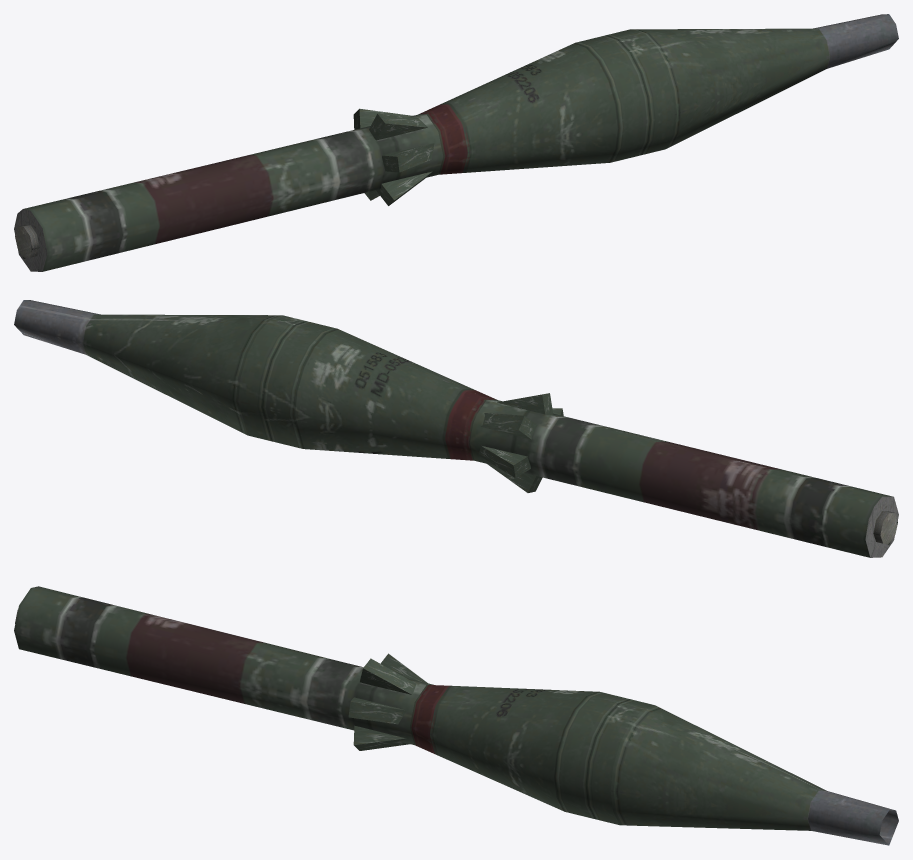
File: viewmodel_rpg7_rocket_LOD0.obj
3 renders of one model, top to bottom at view 1: azimuth 30°, elevation 25°; view 2: azimuth 150°, elevation 25°; view 3: azimuth 330°, elevation 25°, orthographic.
Parts seen in each view (by area): view 1: mtl_weapon_rpg7; view 2: mtl_weapon_rpg7; view 3: mtl_weapon_rpg7.
Part boxes in pixels (x1,y1,x2,y2): mtl_weapon_rpg7: [14, 14, 898, 271]; mtl_weapon_rpg7: [14, 300, 898, 557]; mtl_weapon_rpg7: [14, 586, 898, 845].
Bounding box in the file's own units: 61.54 × 7.89 × 7.89.
Materials: 1 (1 with a texture image).
